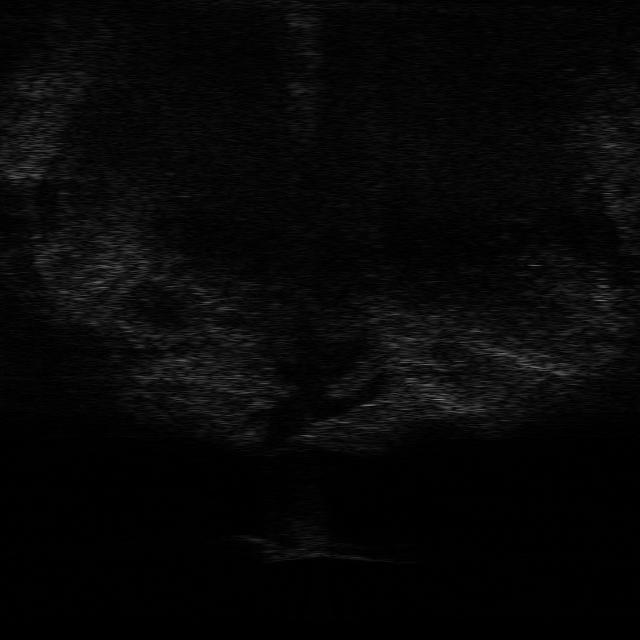plane: (239, 516, 401, 564)
